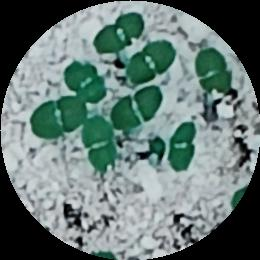Basil: (30, 95, 89, 139), (110, 84, 163, 132), (91, 11, 146, 56), (83, 115, 123, 172), (128, 37, 179, 81), (164, 123, 201, 173), (66, 59, 105, 105), (194, 50, 232, 93)
